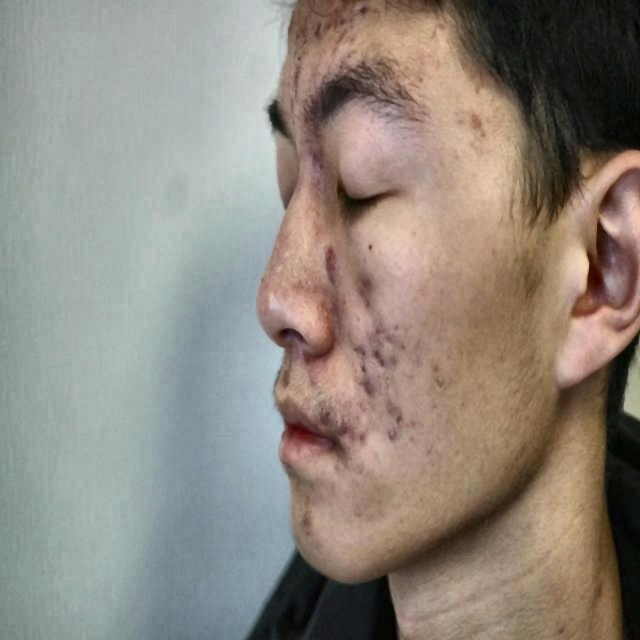pustule: (358, 272, 381, 308), (321, 238, 340, 280), (388, 422, 408, 452), (356, 422, 371, 458), (468, 107, 481, 139), (350, 340, 366, 363), (358, 371, 371, 395), (373, 320, 385, 345), (384, 387, 398, 408), (340, 417, 352, 438)
